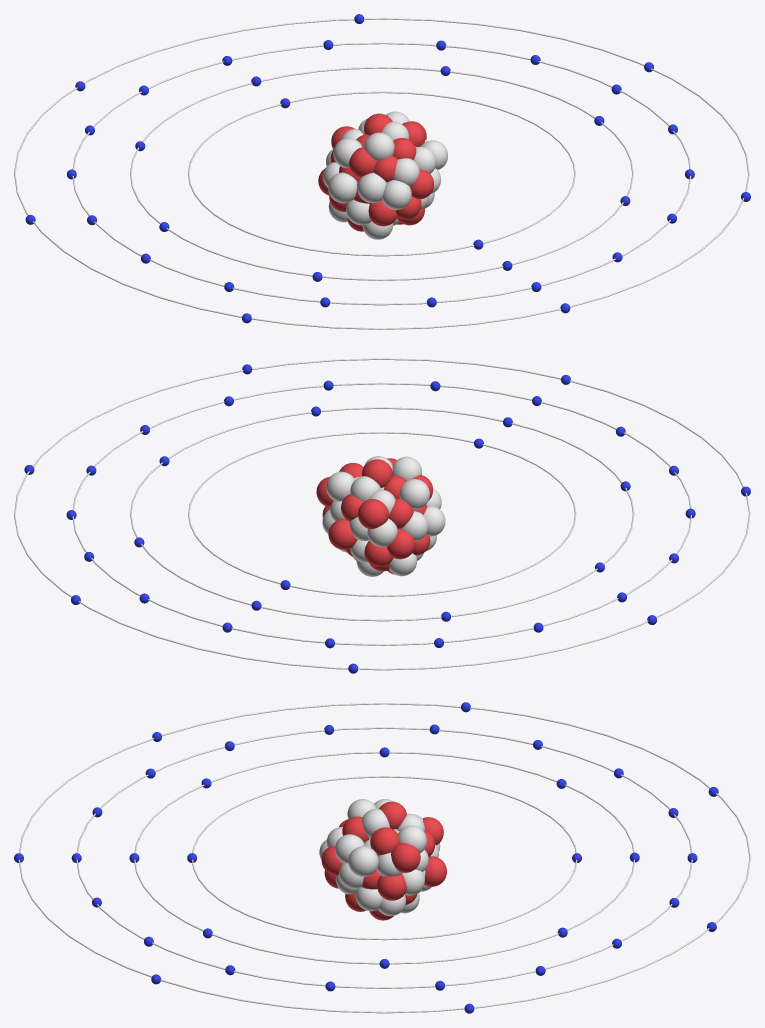
File: Brom.glb
3 views of the same model, one above another, from view 1: azimuth 30°, elevation 25°; view 2: azimuth 150°, elevation 25°; view 3: azimuth 270°, elevation 25° (orthographic).
Parts seen in each view (by area): view 1: N-Schale, M-Schale, L-Schale, K-Schale, Neutron 44, Neutron 42, Neutron 40, Neutron 37, Proton 28, Neutron 38, Neutron 35, Proton 24; view 2: N-Schale, M-Schale, L-Schale, K-Schale, Proton 34, Neutron 35, Proton 18, Neutron 36, Proton 4, Proton 35, Neutron 8, Neutron 37; view 3: N-Schale, M-Schale, L-Schale, K-Schale, Neutron 43, Proton 29, Proton 31, Proton 26, Proton 18, Neutron 41, Neutron 36, Neutron 31.
Part boxes in pixels (x1=…): N-Schale: x1=14, y1=18, x2=749, y2=329; M-Schale: x1=72, y1=42, x2=691, y2=305; L-Schale: x1=130, y1=67, x2=633, y2=280; K-Schale: x1=188, y1=91, x2=575, y2=256; Neutron 44: x1=328, y1=172, x2=357, y2=203; Neutron 42: x1=382, y1=180, x2=411, y2=209; Neutron 40: x1=357, y1=172, x2=386, y2=203; Neutron 37: x1=364, y1=132, x2=394, y2=161; Proton 28: x1=349, y1=147, x2=376, y2=177; Neutron 38: x1=393, y1=158, x2=419, y2=186; Neutron 35: x1=333, y1=138, x2=362, y2=167; Proton 24: x1=368, y1=200, x2=397, y2=226; N-Schale: x1=14, y1=358, x2=750, y2=670; M-Schale: x1=72, y1=382, x2=691, y2=645; L-Schale: x1=130, y1=407, x2=634, y2=621; K-Schale: x1=188, y1=432, x2=576, y2=596; Proton 34: x1=358, y1=499, x2=388, y2=529; Neutron 35: x1=399, y1=479, x2=429, y2=509; Proton 18: x1=328, y1=519, x2=357, y2=549; Neutron 36: x1=326, y1=471, x2=354, y2=501; Proton 4: x1=387, y1=528, x2=415, y2=559; Proton 35: x1=362, y1=459, x2=392, y2=487; Neutron 8: x1=367, y1=518, x2=397, y2=547; Neutron 37: x1=392, y1=456, x2=421, y2=480; N-Schale: x1=18, y1=703, x2=750, y2=1013; M-Schale: x1=76, y1=727, x2=692, y2=988; L-Schale: x1=134, y1=751, x2=635, y2=964; K-Schale: x1=191, y1=776, x2=577, y2=940; Neutron 43: x1=348, y1=846, x2=378, y2=876; Proton 29: x1=391, y1=843, x2=420, y2=872; Proton 31: x1=377, y1=874, x2=406, y2=900; Proton 26: x1=370, y1=827, x2=398, y2=855; Proton 18: x1=424, y1=856, x2=446, y2=886; Neutron 41: x1=335, y1=834, x2=364, y2=863; Neutron 36: x1=398, y1=825, x2=426, y2=853; Neutron 31: x1=362, y1=809, x2=389, y2=838.
Size of the model in its own units: 19.04 by 3.13 by 19.15.
